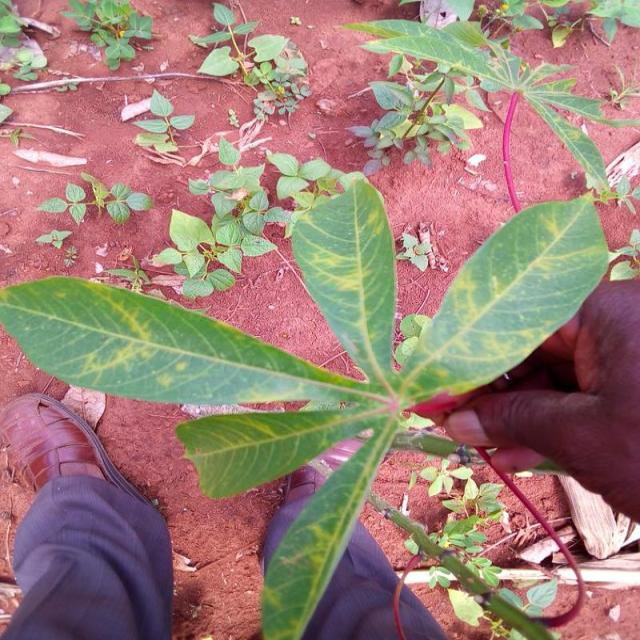cassava leaf: (2, 173, 612, 637), (398, 192, 610, 407), (291, 173, 399, 387)
